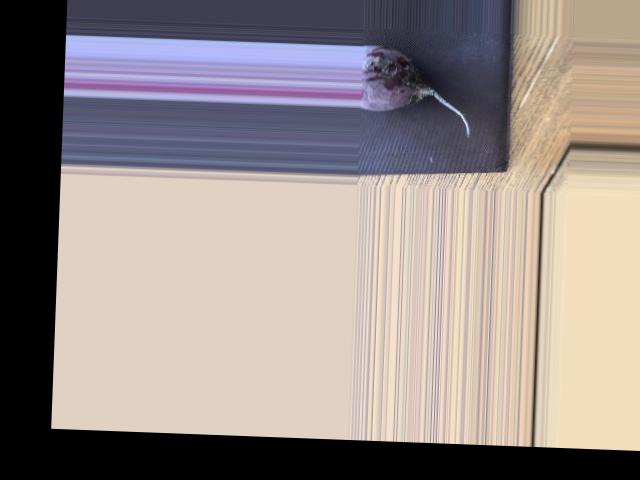beet: (359, 44, 473, 136)
